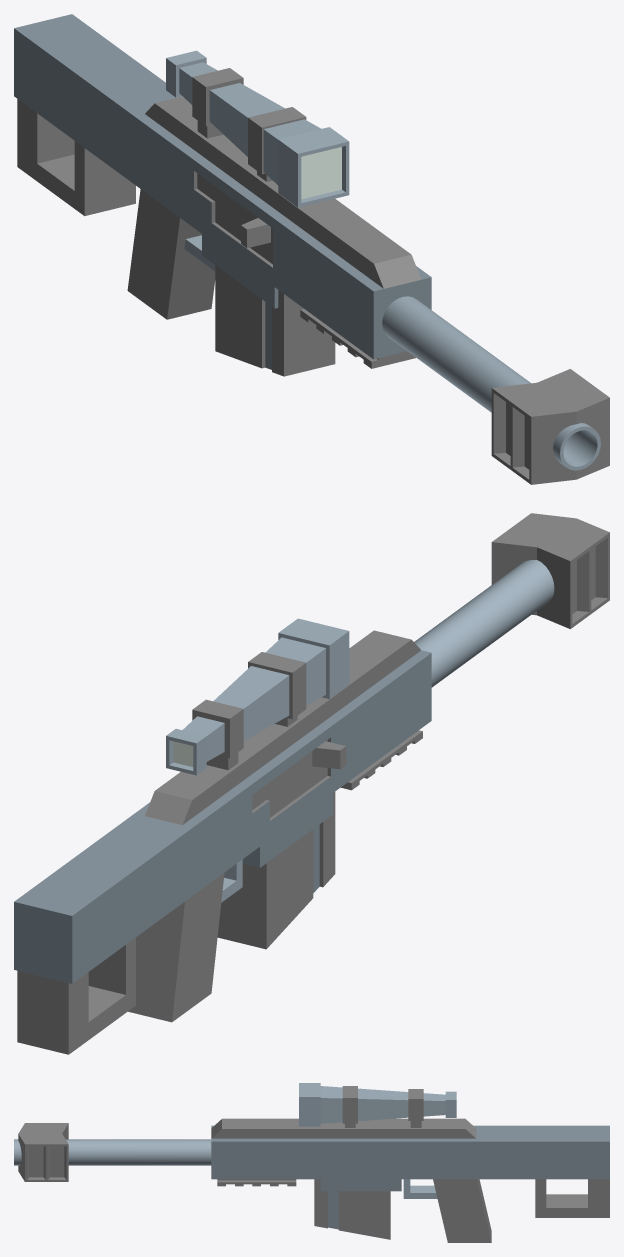
File: sniper.glb
The picture shows the model from 3 angles, top to bottom: view 1: azimuth 30°, elevation 25°; view 2: azimuth 150°, elevation 25°; view 3: azimuth 270°, elevation 25°; orthographic projection. The views are drawn at different scales.
Visible parts, largest first — view 1: Group.005, Group.003, Group.002, Group.008; view 2: Group.005, Group.003, Group.008, Group.002; view 3: Group.005, Group.003, Group.002.
Boxes of the visible parts, x1,y1,x2,y2 form: Group.005: (14, 14, 609, 484); Group.003: (215, 265, 335, 376); Group.002: (300, 309, 415, 368); Group.008: (241, 218, 270, 248); Group.005: (14, 513, 609, 1054); Group.003: (217, 792, 335, 949); Group.008: (312, 741, 346, 769); Group.002: (341, 730, 422, 790); Group.005: (14, 1083, 609, 1242); Group.003: (314, 1179, 390, 1239); Group.002: (217, 1179, 296, 1186).
Size of the model in its own units: 0.0995 by 0.2833 by 1.04.
